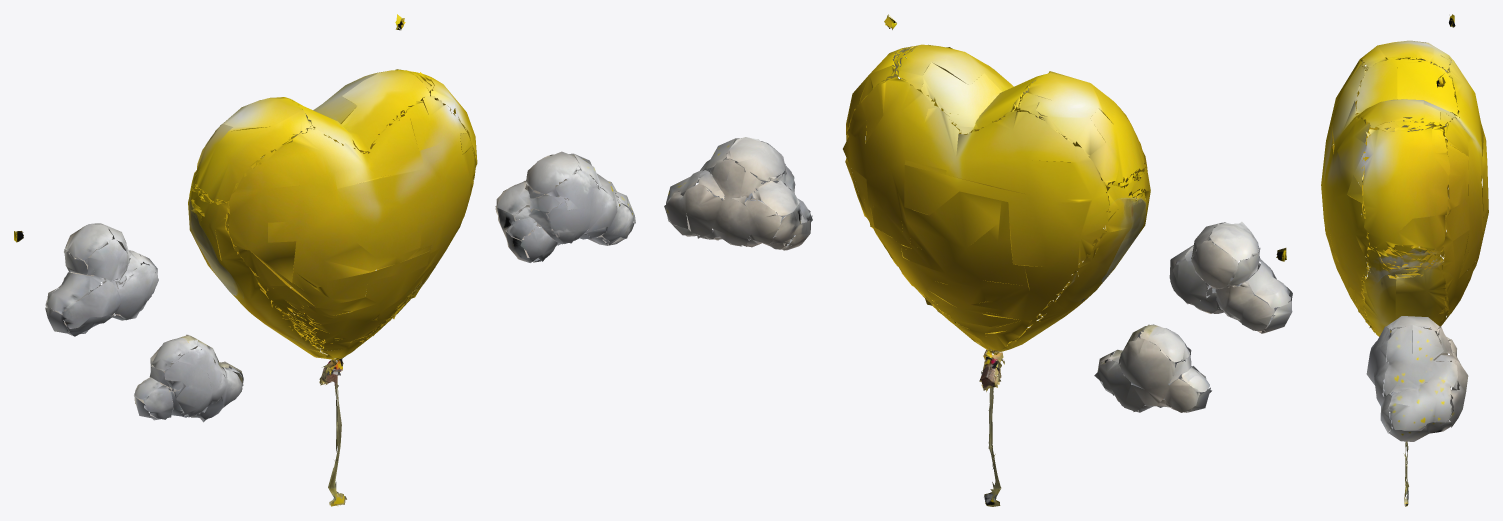
Rendered from my_pin.glb.
3 renders of one model, left to right at view 1: azimuth 30°, elevation 25°; view 2: azimuth 150°, elevation 25°; view 3: azimuth 270°, elevation 25°, orthographic. The views are drawn at different scales.
Parts seen in each view (by area): view 1: Mesh_0; view 2: Mesh_0; view 3: Mesh_0.
Part boxes in pixels (x1,y1,x2,y2): Mesh_0: (14,14,635,506); Mesh_0: (664,14,1292,506); Mesh_0: (1321,14,1488,506).
Size of the model in its own units: 2.05 by 1.52 by 0.4901.
1 material, 1 textured.
